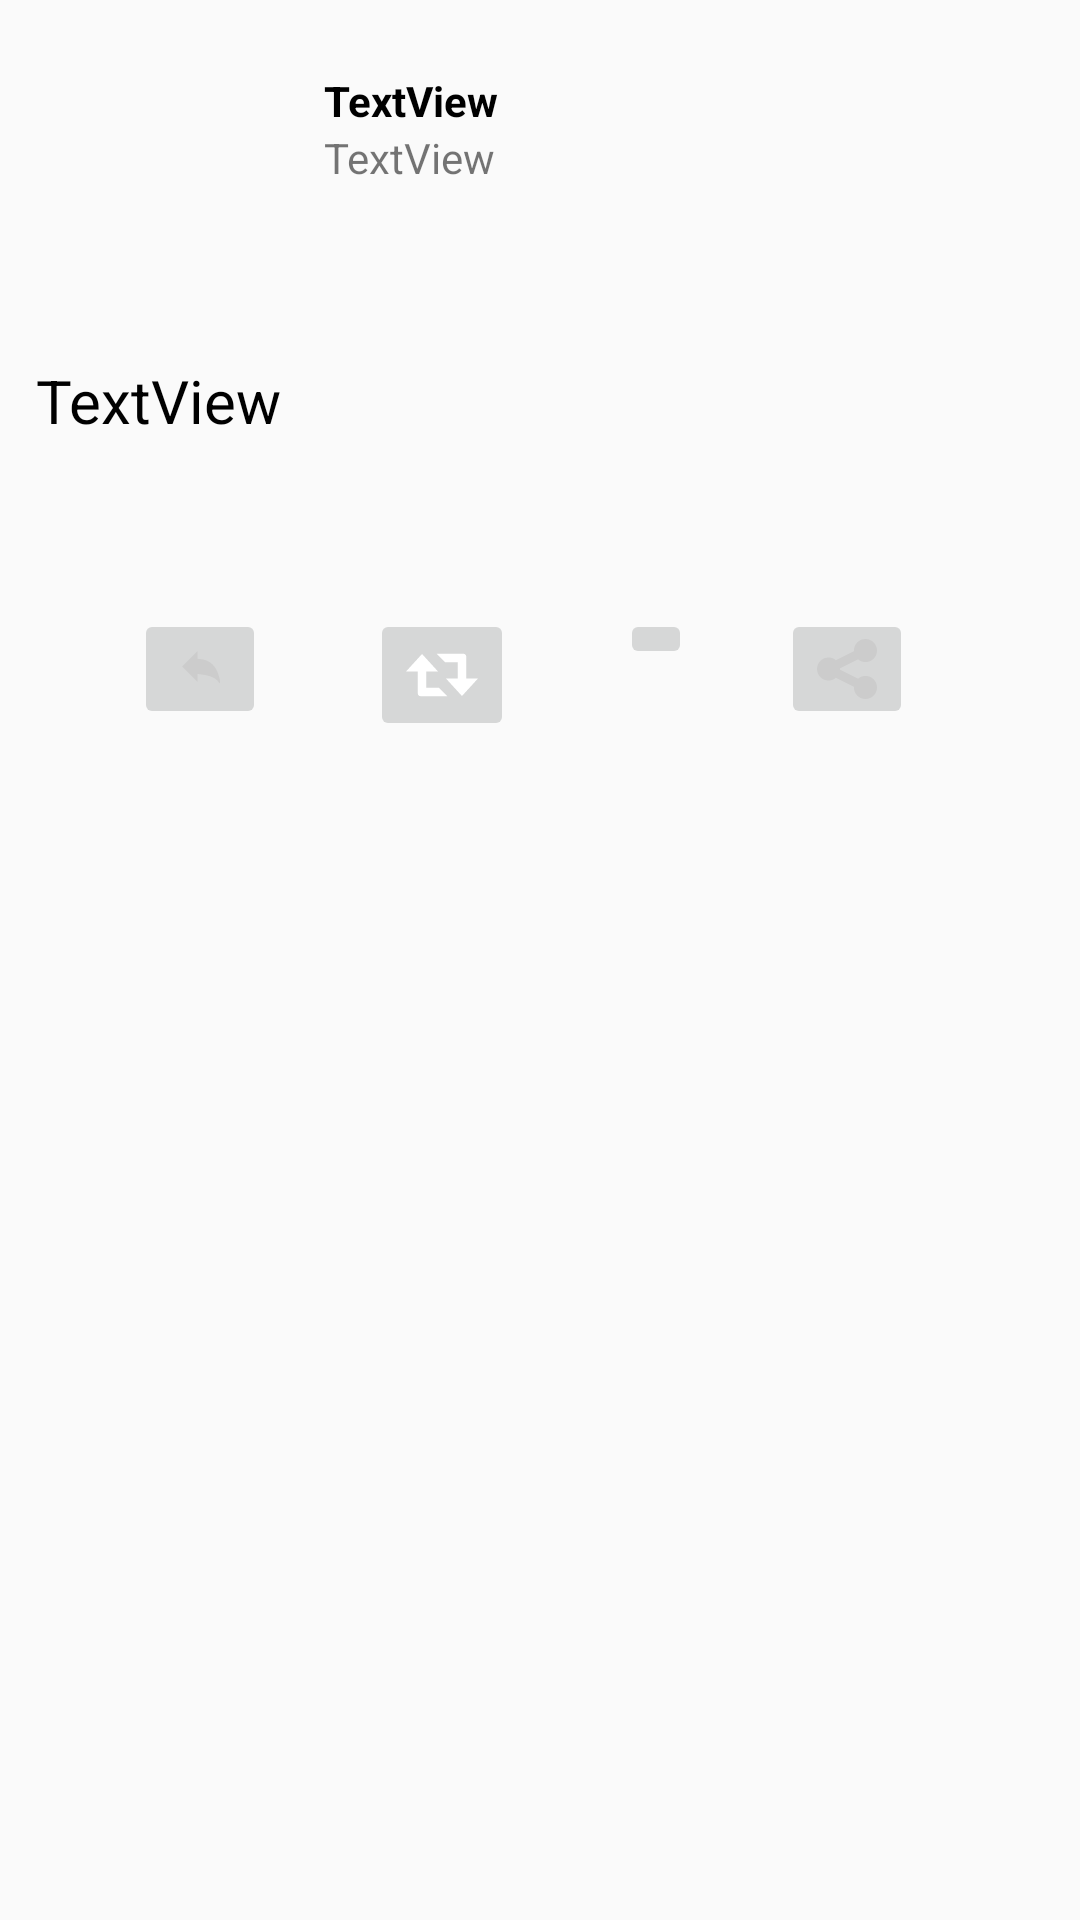

Point at icon controls on the screen. Image size 1080 × 1920, points as (x,y).
retweet: (442,675)
